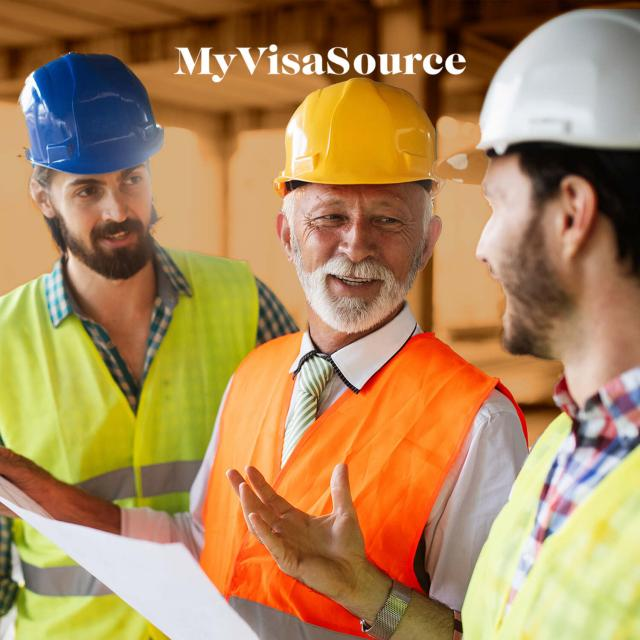Reflective-Jacket: (1, 251, 262, 640), (216, 324, 507, 632), (462, 362, 638, 638)
Safety-Helmet: (471, 7, 640, 167), (268, 75, 445, 193), (17, 53, 165, 176)
